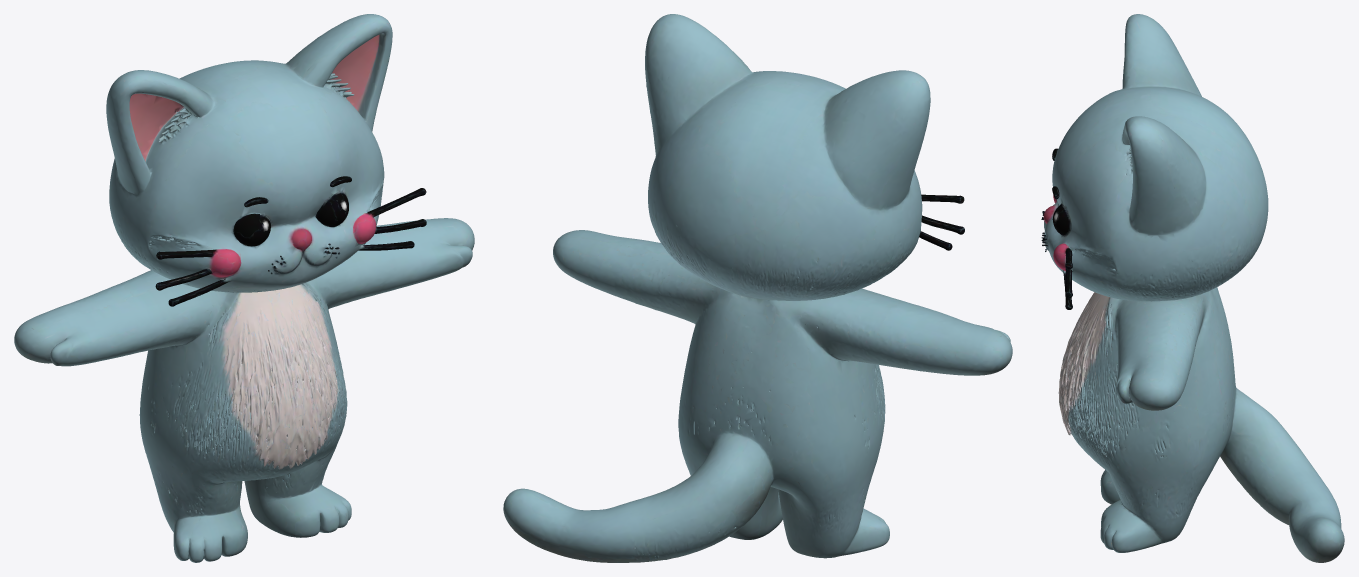
The model's file is cat.glb.
3 views of the same model, side by side, from view 1: azimuth 30°, elevation 25°; view 2: azimuth 150°, elevation 25°; view 3: azimuth 270°, elevation 25° (orthographic). The views are drawn at different scales.
Visible parts, largest first — view 1: geometry_0; view 2: geometry_0; view 3: geometry_0.
Part boxes in pixels (x1=…): geometry_0: x1=14, y1=14, x2=474, y2=562; geometry_0: x1=503, y1=14, x2=1012, y2=562; geometry_0: x1=1041, y1=14, x2=1344, y2=562.
Bounding box in the file's own units: 0.9707 × 1 × 0.6131.
1 material, 1 textured.
